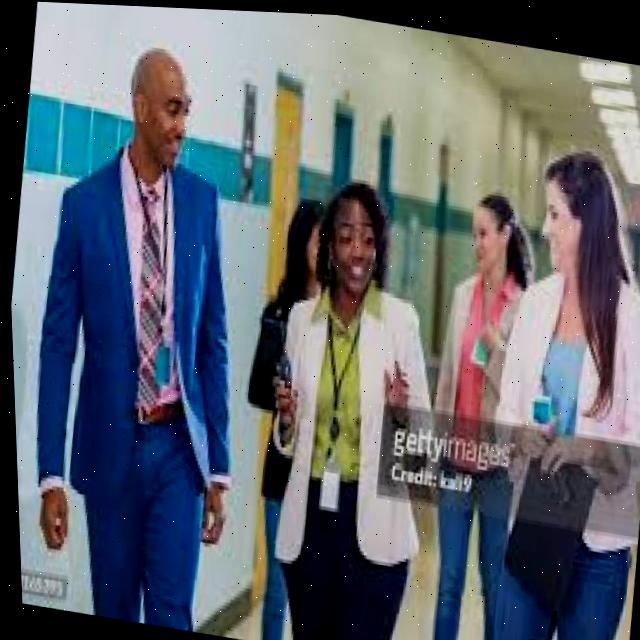id_card: (290, 300, 368, 518)
